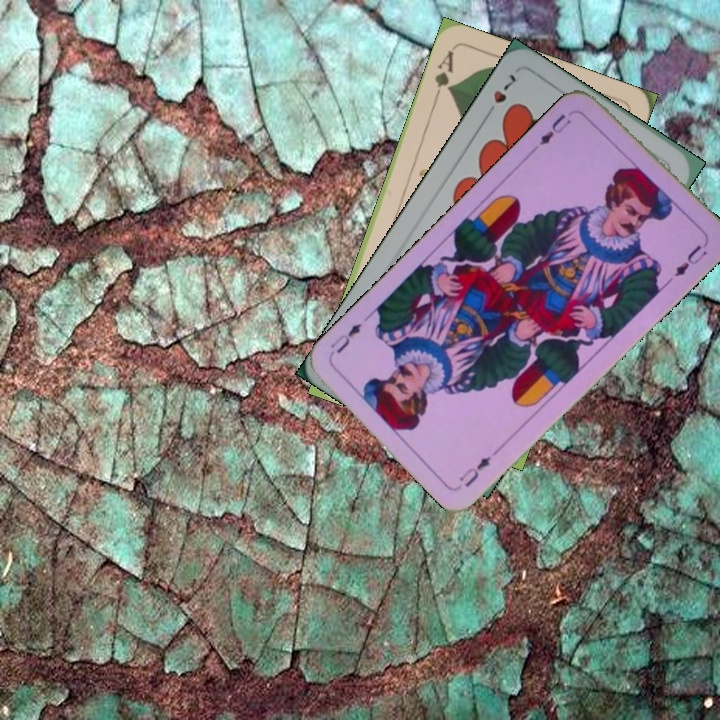EU: (454, 452, 494, 490), (535, 110, 574, 148)
GA: (429, 46, 457, 104)
H7: (481, 69, 522, 120)
